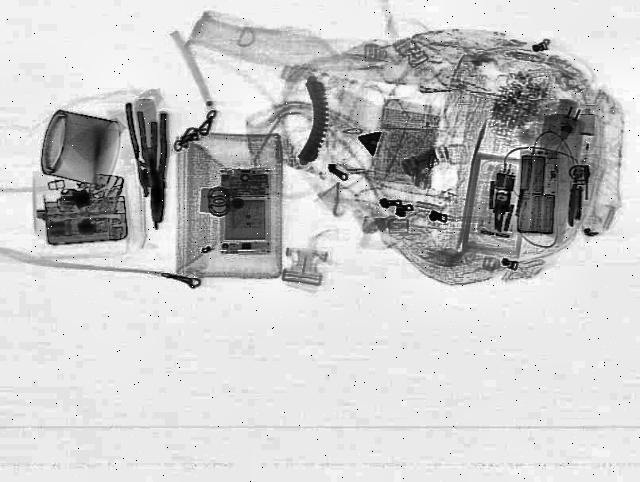Pliers: (148, 111, 168, 224)
